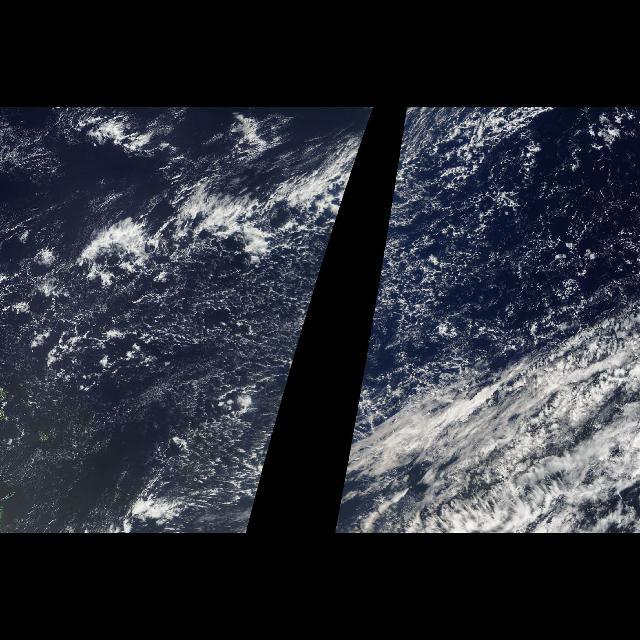Gravel: (354, 118, 636, 412), (6, 253, 324, 449), (338, 117, 372, 217)
Sugar: (1, 144, 363, 534), (363, 144, 544, 373)
